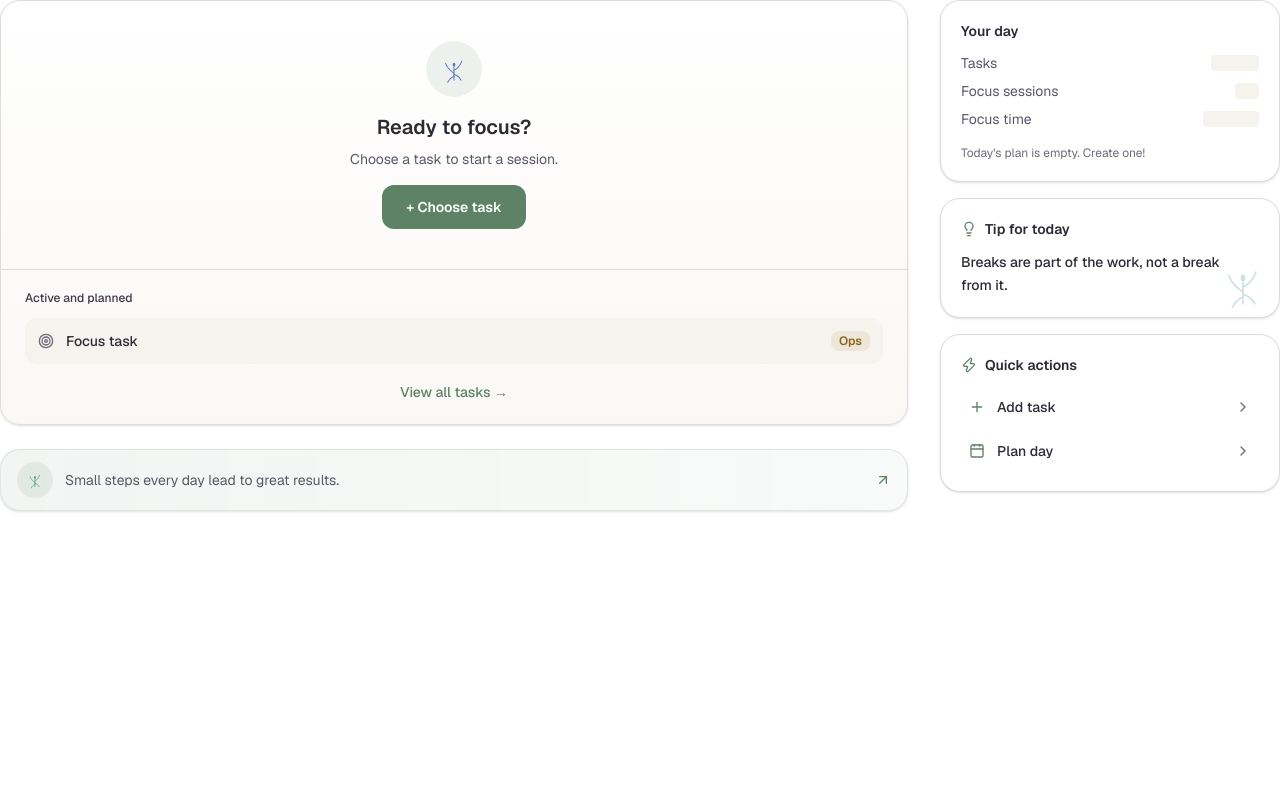
PomodoroDashboardBody overlay visibility › opens AddTaskModal from recovery pending workbench
This screenshot has width=1280, height=800.
Click the button with test id "quick-action-add-task": [1026, 406] box [961,386,1259,426]
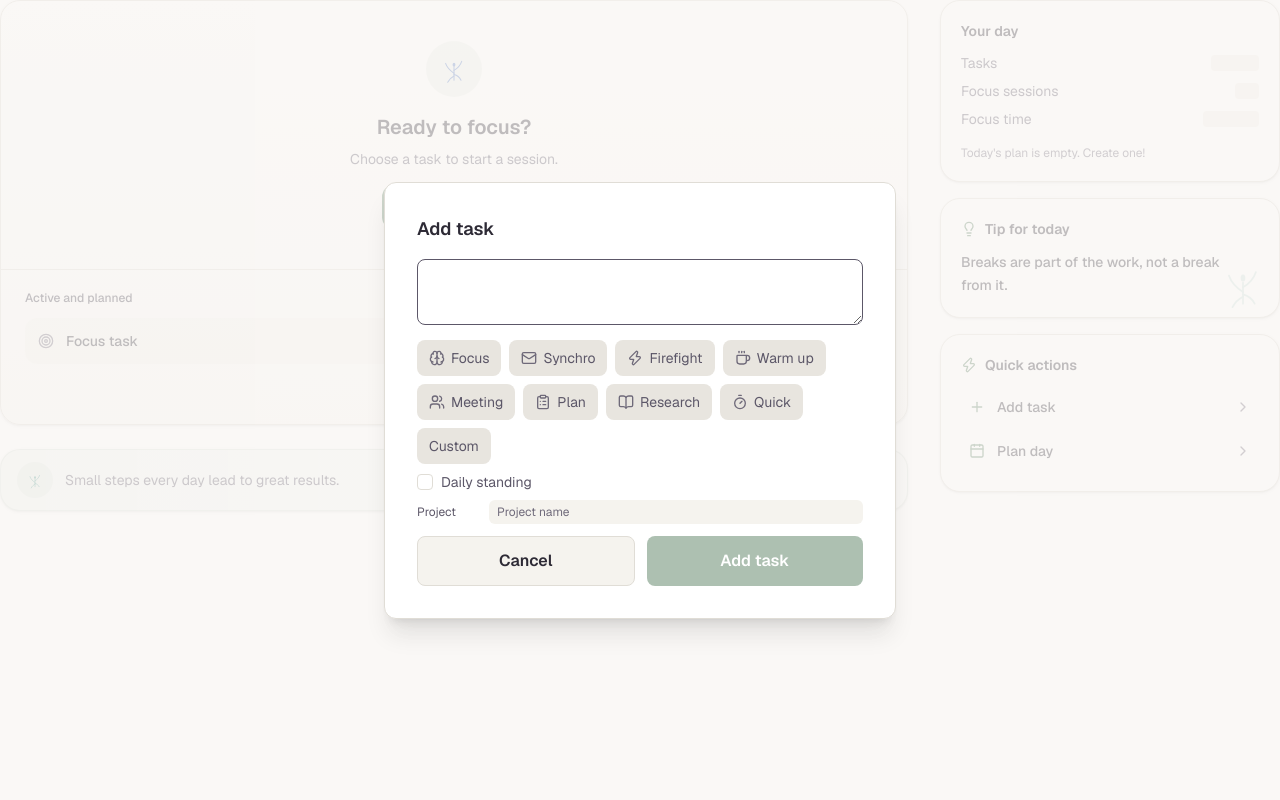
Expected: the dialog with test id "add-task-modal" is shown
